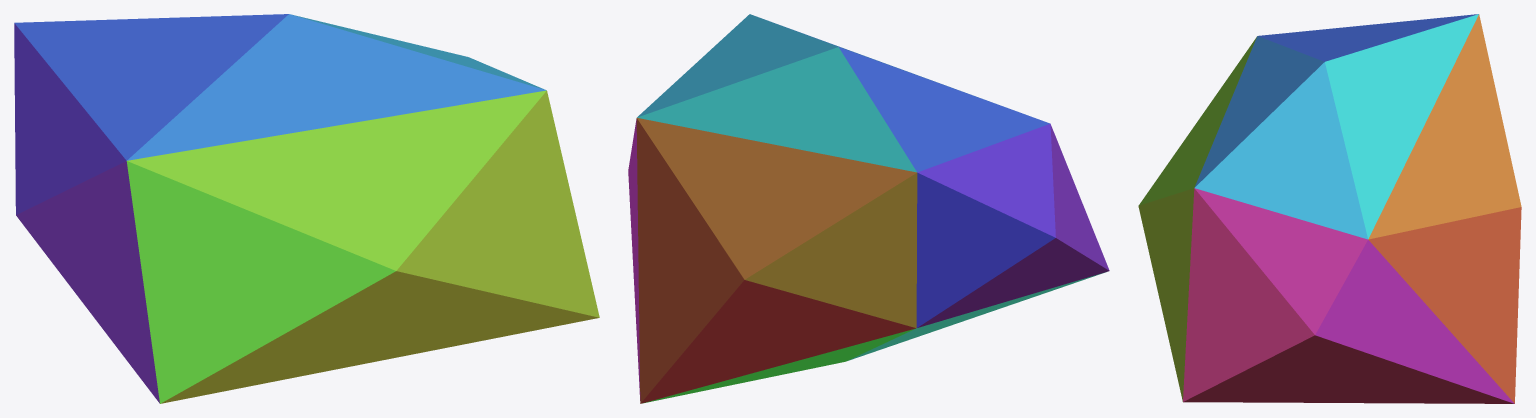
Rendered from box-from-code.obj.
3 renders of one model, left to right at view 1: azimuth 30°, elevation 25°; view 2: azimuth 150°, elevation 25°; view 3: azimuth 270°, elevation 25°, orthographic. The views are drawn at different scales.
Visible parts, largest first — view 1: CodeBox; view 2: CodeBox; view 3: CodeBox.
Boxes of the visible parts, x1,y1,x2,y2 form: CodeBox: [14, 14, 599, 403]; CodeBox: [628, 14, 1109, 403]; CodeBox: [1138, 14, 1521, 403].
Bounding box in the file's own units: 2.32 × 1.54 × 1.81.
